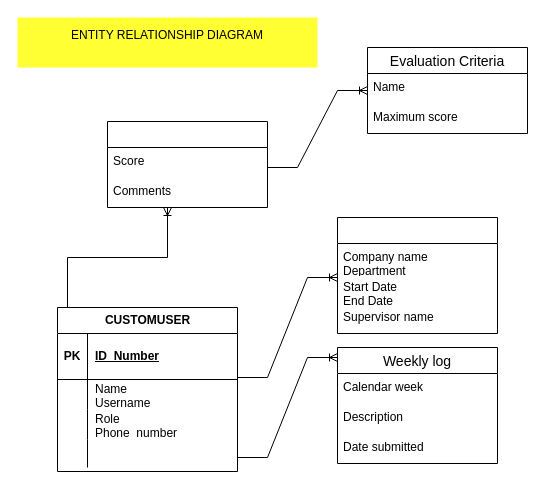
The diagram is 545 pixels wide and 489 high, and some of its shapes have lost their labels. The shapes that lost their labels are listed below. From the top down, each one's box as (x1, y1, x2, y2) in pixels, then its label:
(106, 120, 268, 208): Evaluation
(336, 216, 498, 334): Internship placement
